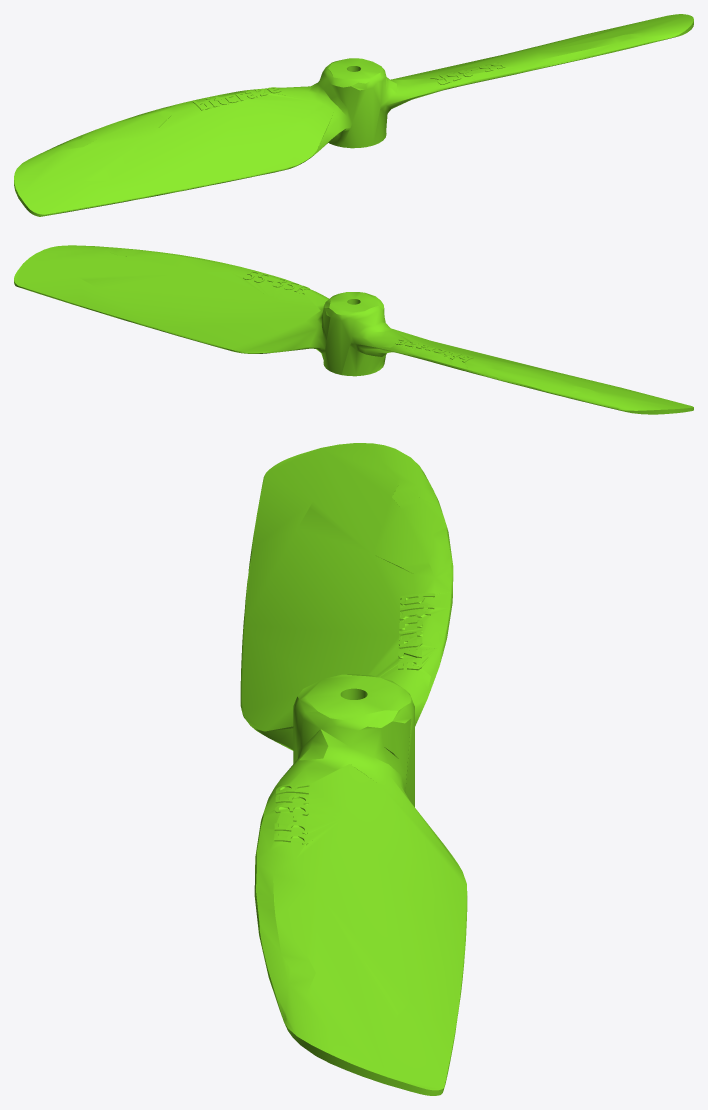
The model's file is prop_cw.glb.
3 renders of one model, top to bottom at view 1: azimuth 30°, elevation 25°; view 2: azimuth 150°, elevation 25°; view 3: azimuth 270°, elevation 25°, orthographic. The views are drawn at different scales.
Parts seen in each view (by area): view 1: PropR; view 2: PropR; view 3: PropR.
Part boxes in pixels (x1,y1,x2,y2): PropR: [14, 14, 693, 216]; PropR: [14, 245, 693, 414]; PropR: [240, 443, 467, 1095].
Size of the model in its own units: 0.0548 by 0.005 by 0.00835.
